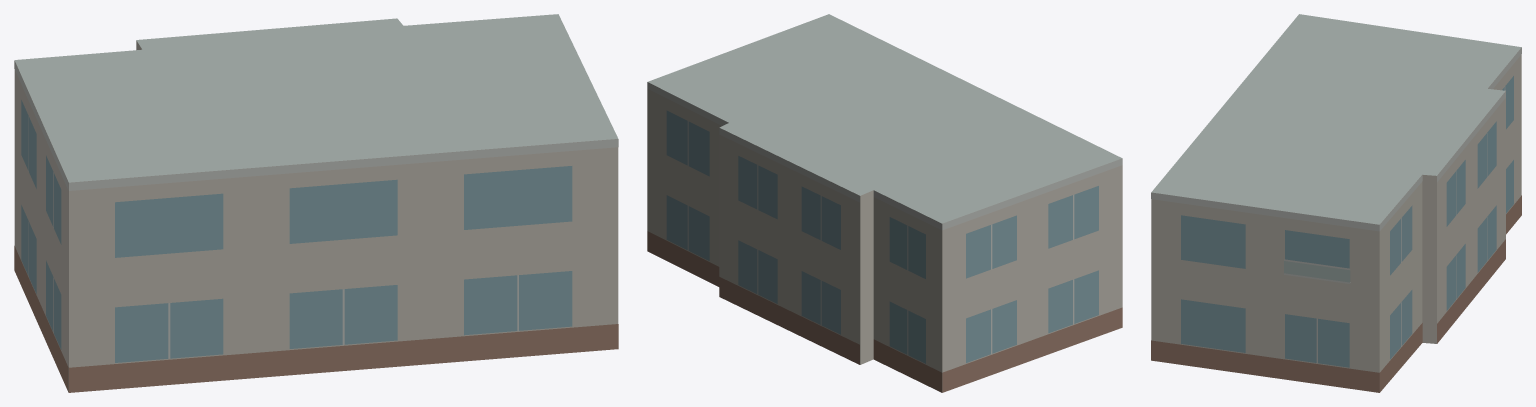
Rendered from survey-upis-32583073.glb.
The picture shows the model from 3 angles, left to right: view 1: azimuth 30°, elevation 25°; view 2: azimuth 150°, elevation 25°; view 3: azimuth 270°, elevation 25°; orthographic projection. The views are drawn at different scales.
Visible parts, largest first — view 1: survey-upis-32583073.tmp; view 2: survey-upis-32583073.tmp; view 3: survey-upis-32583073.tmp.
Boxes of the visible parts, <box> form: survey-upis-32583073.tmp: <box>14,14,618,392</box>; survey-upis-32583073.tmp: <box>647,14,1122,392</box>; survey-upis-32583073.tmp: <box>1151,14,1521,392</box>.
Size of the model in its own units: 16.41 by 6.1 by 12.2.
